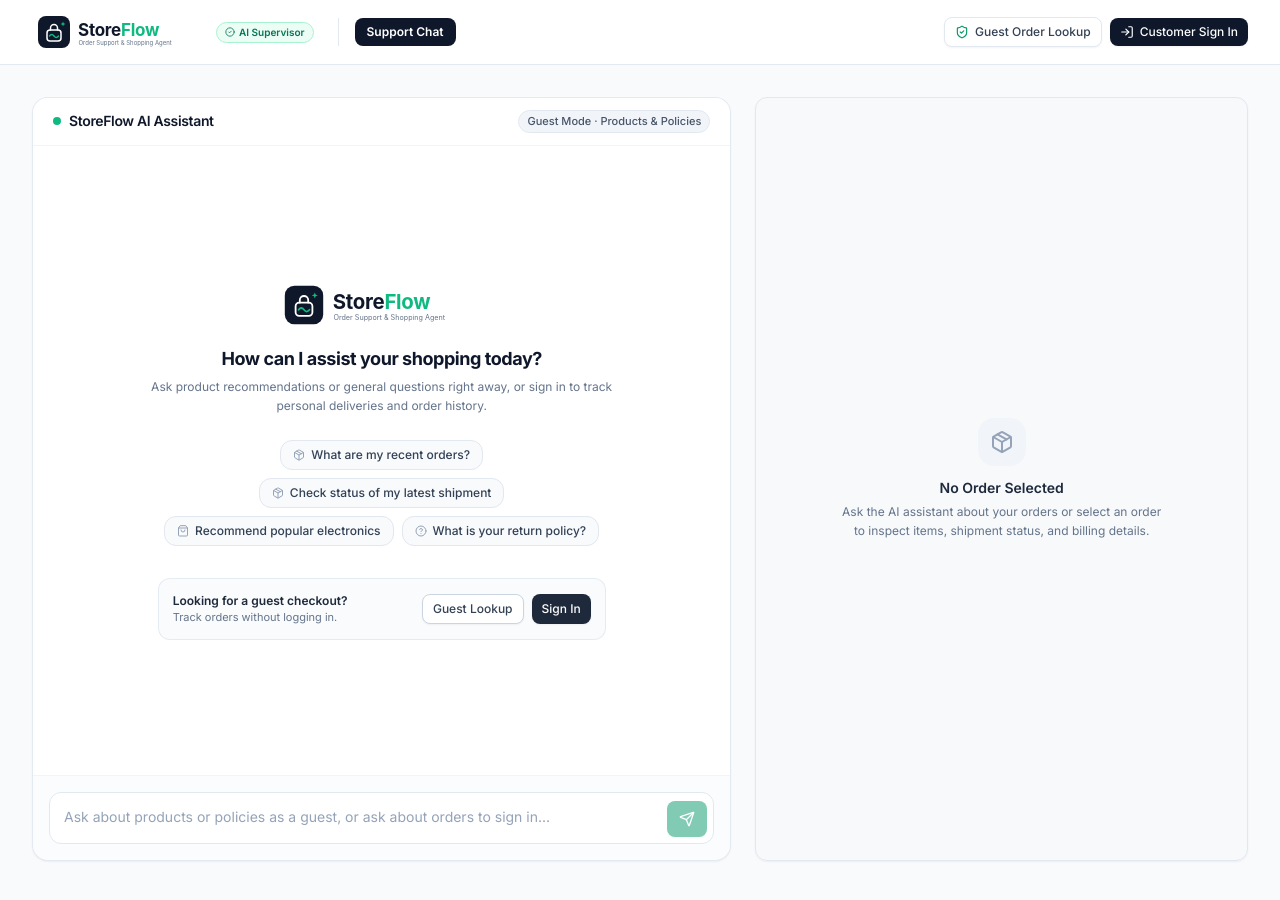
Test: Phase 5: ChatContainer & Guest Question / Login Replay Flows › cancelling AuthModal prevents unexpected auto-replay on later unrelated login, while inline button still works
Replace the text in the text box named "Ask StoreFlow Assistant" with "Where is my order?" at (358, 818), box x1=56 y1=799 x2=659 y2=837
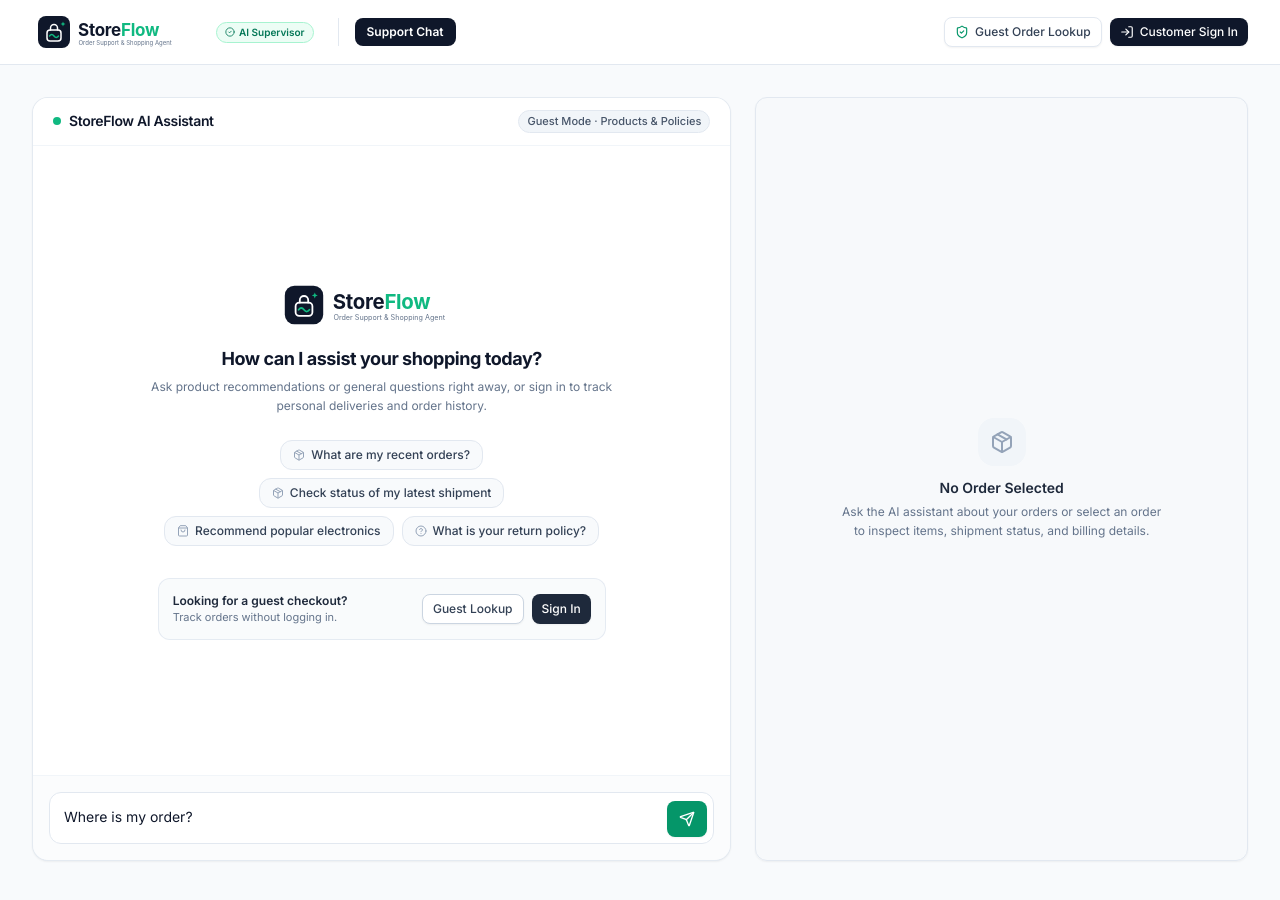
Click the button named "Send message" at (687, 819), box x1=667 y1=801 x2=707 y2=837
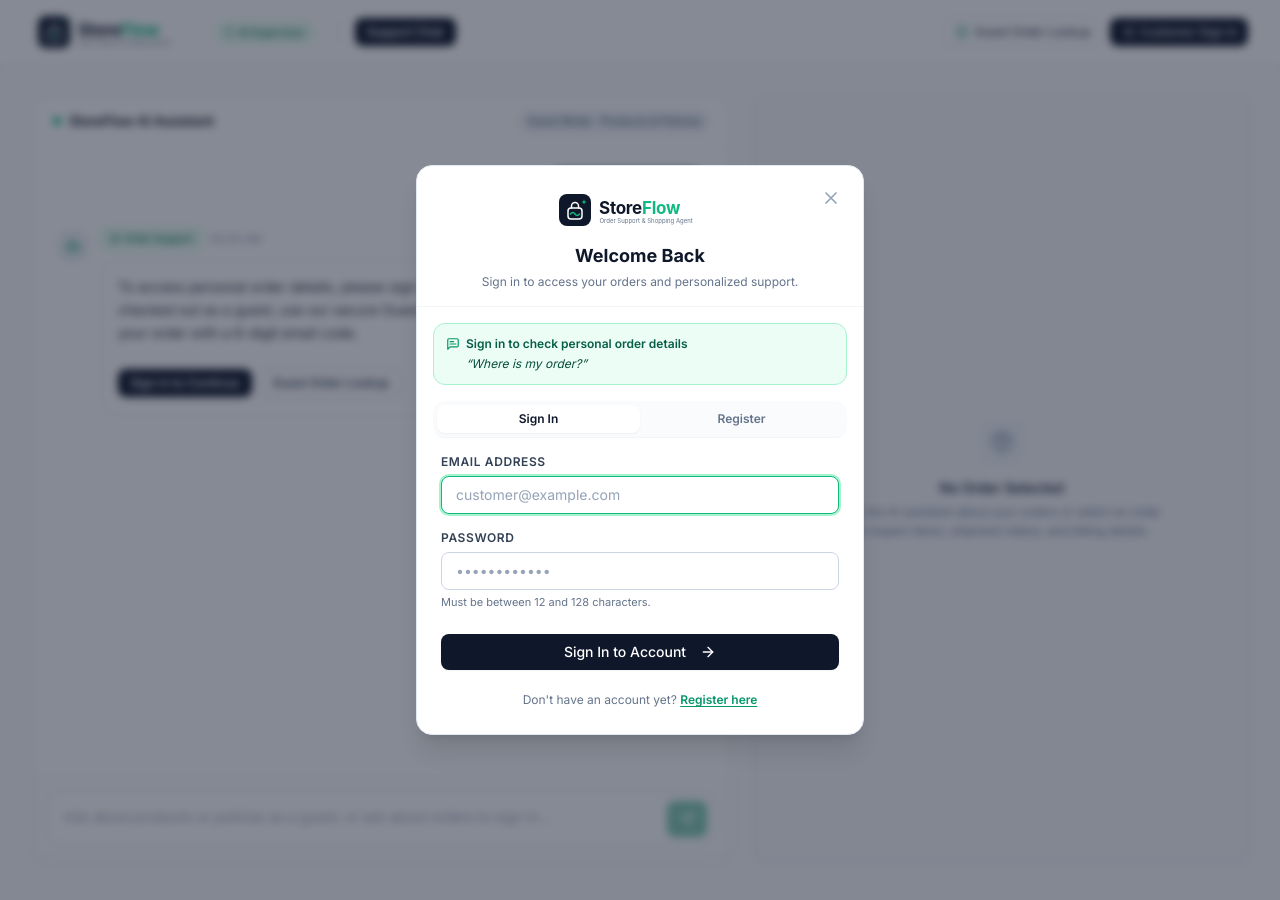
Result: the dialog is shown at x1=416 y1=165 x2=864 y2=735
// User dismisses modal with Escape
Press Escape
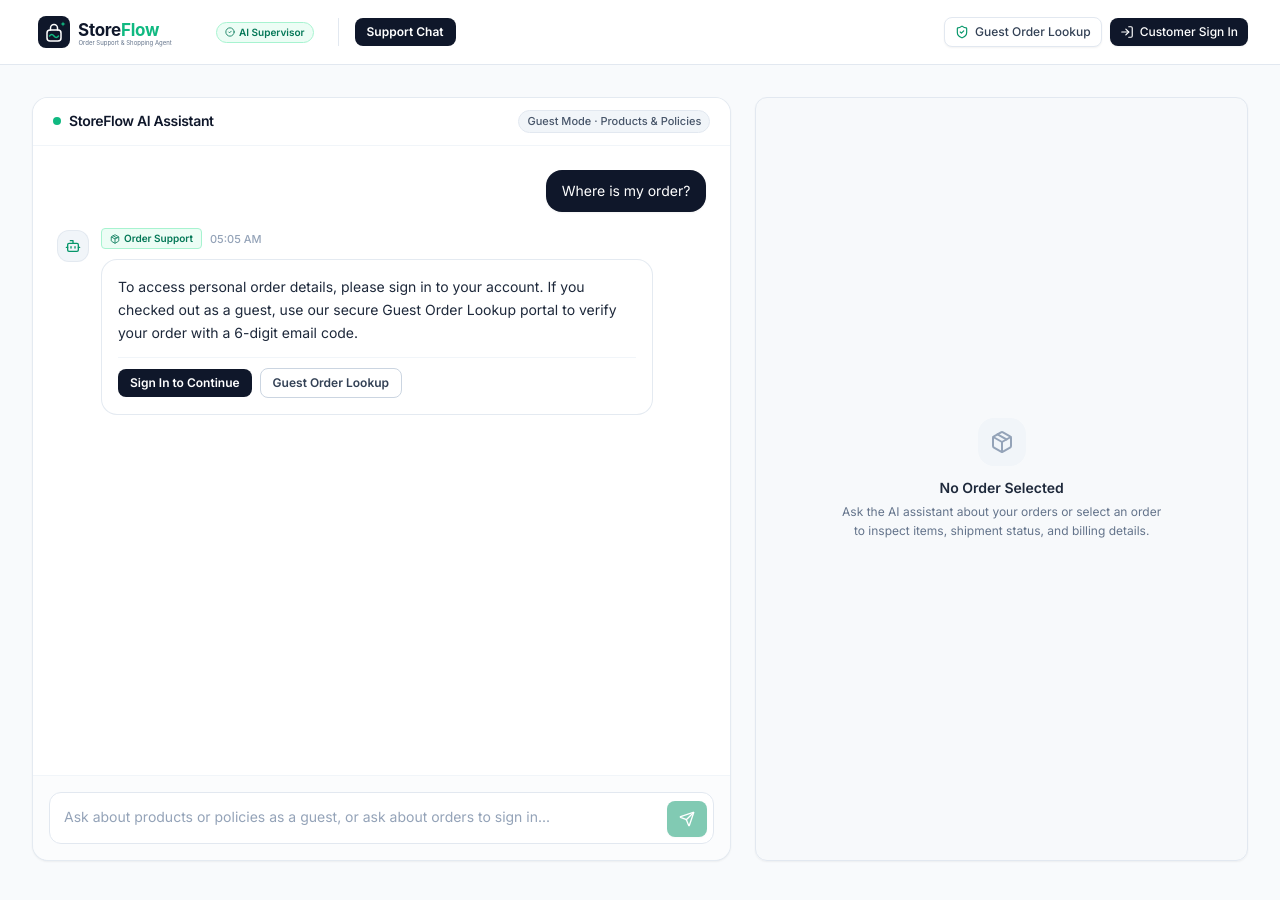
Result: the dialog is gone
Click the button "Customer Sign In" at (1179, 32), box x1=1110 y1=18 x2=1248 y2=46
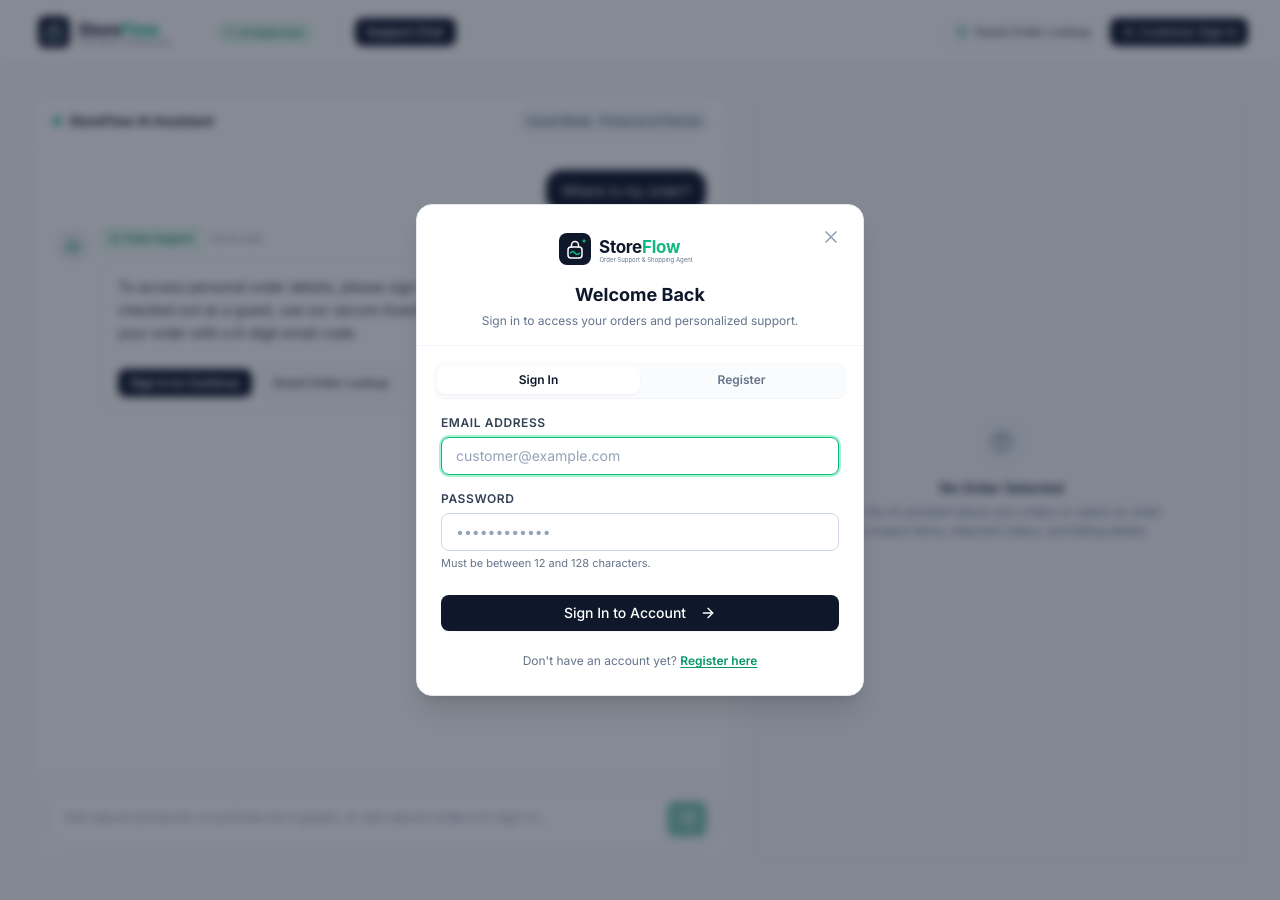
Type "shopper@example.com" into the field labelled "Email Address" at (640, 456), box x1=441 y1=437 x2=839 y2=475
Type "ValidPassword1234!" into the password field labelled "Password" at (640, 532), box x1=441 y1=513 x2=839 y2=551
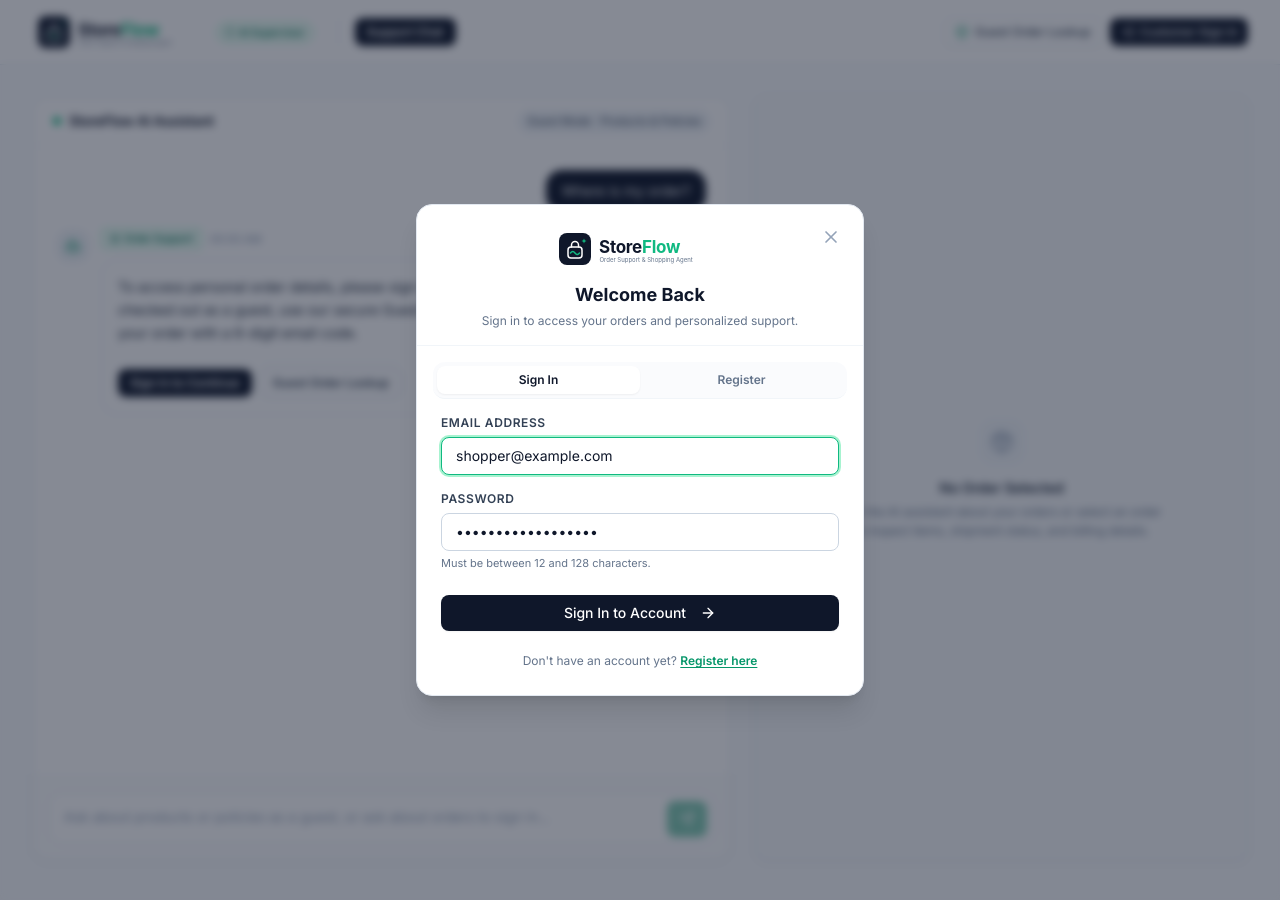
Click the button "Sign In to Account" at (640, 613), box x1=441 y1=595 x2=839 y2=631
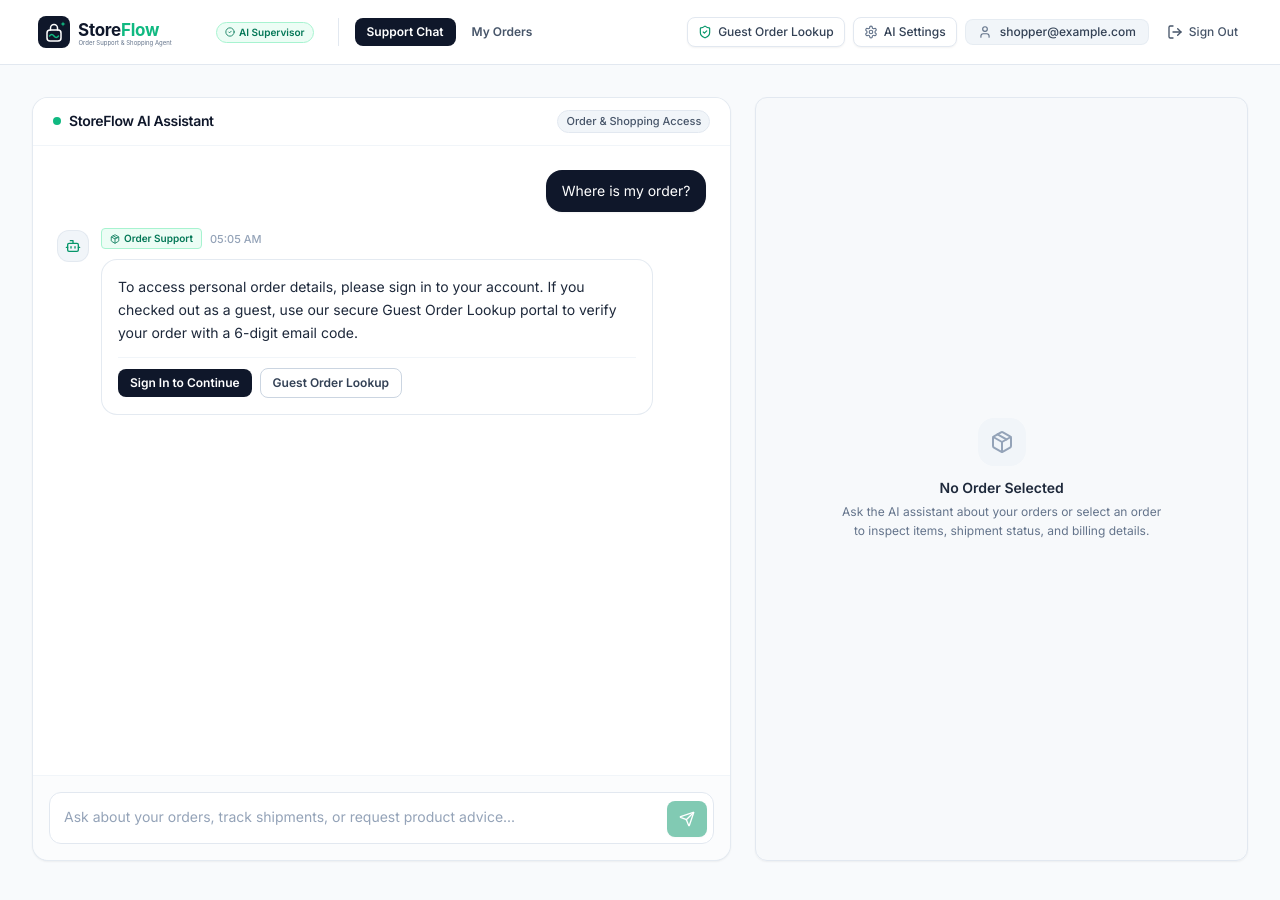
Result: the text "shopper@example.com" is shown at x1=1000 y1=24 x2=1136 y2=40
